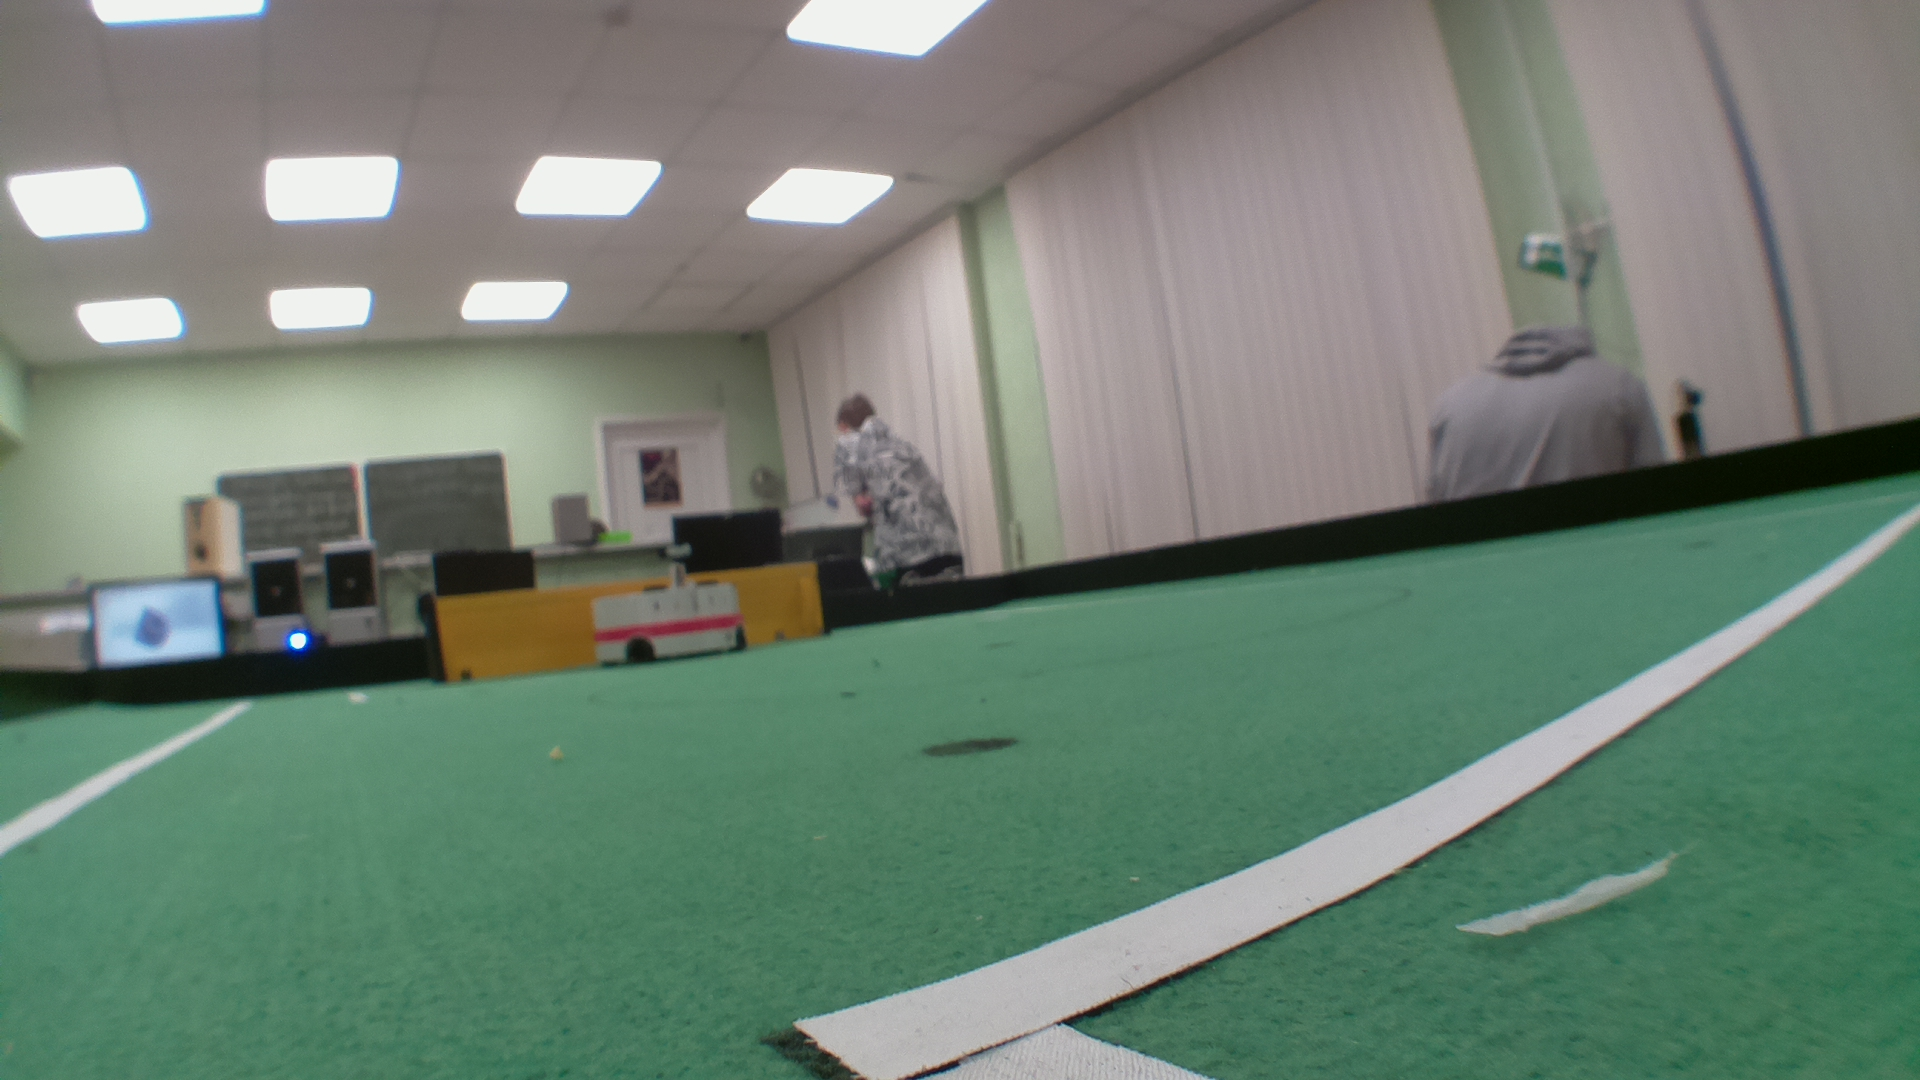YellowGoal: (448, 589, 816, 651)
